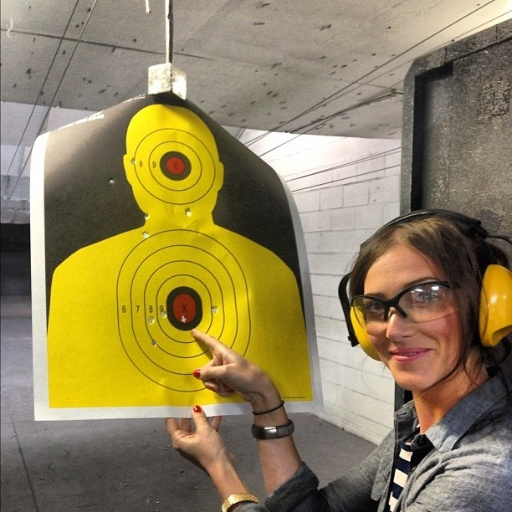hand: (201, 338, 307, 498), (160, 404, 237, 476)
